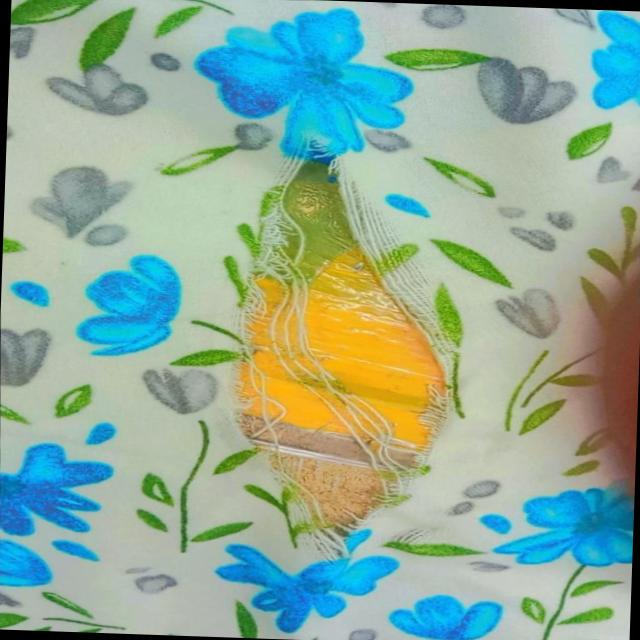cut: (201, 134, 485, 574)
